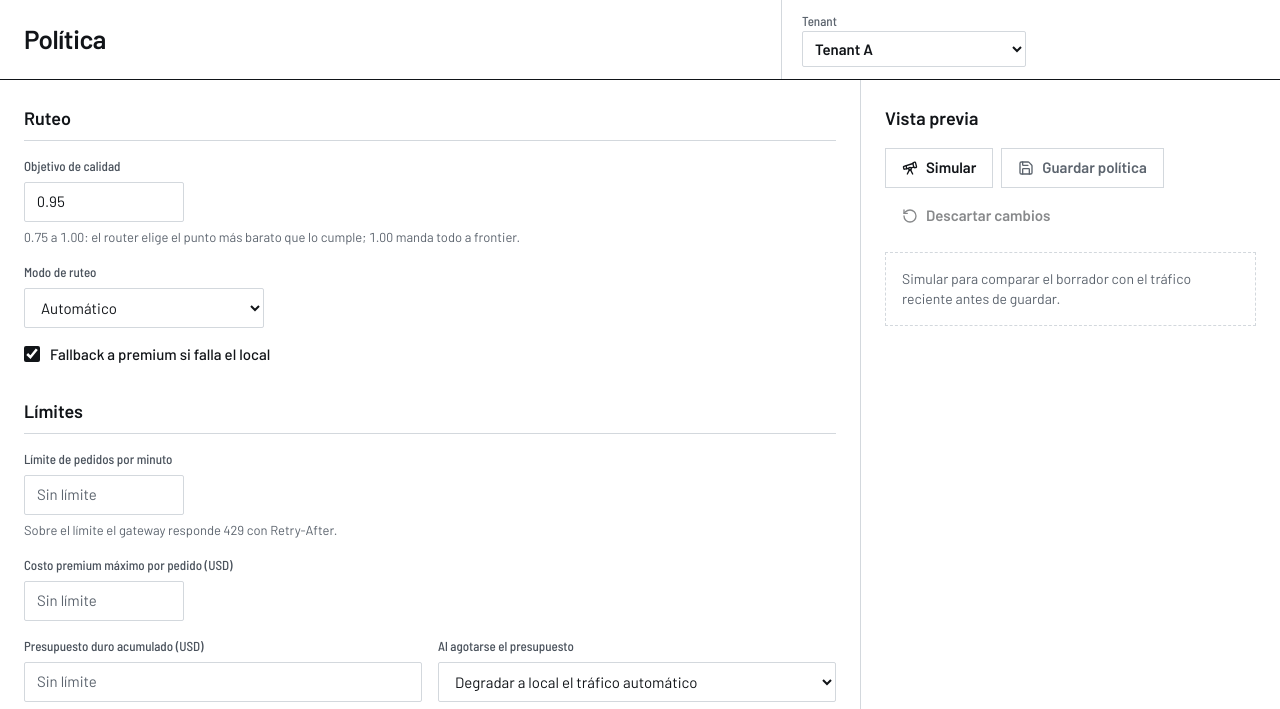
Test: policy-page › does not show a failed simulation of one tenant under the next
Check: the heading "Vista previa" is shown, box [885,104,978,132]
Click the button "Simular".
click(939, 168)  # box [885,148,993,188]
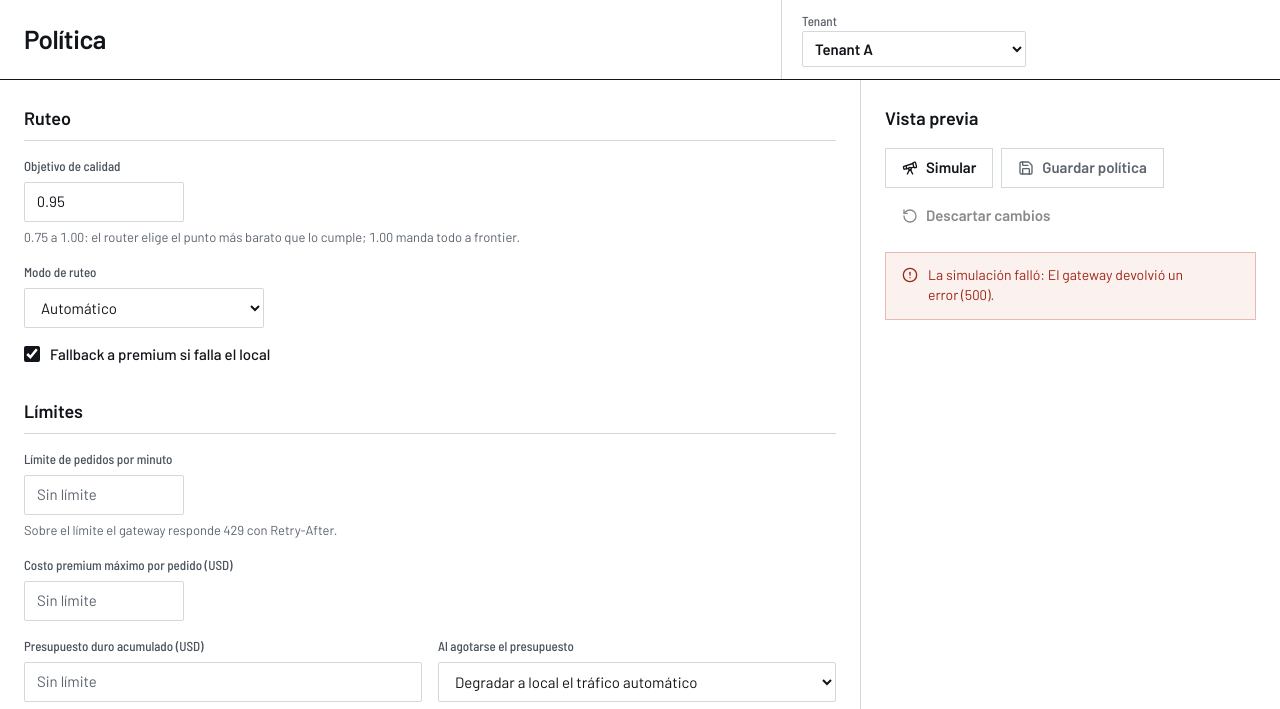
Check: the text "La simulación falló: El gateway devolvió un error (500)." is shown, box [928,266,1183,303]
Select "Tenant B" in the dropdown named "Tenant" at (914, 49), box [802,31,1026,67]
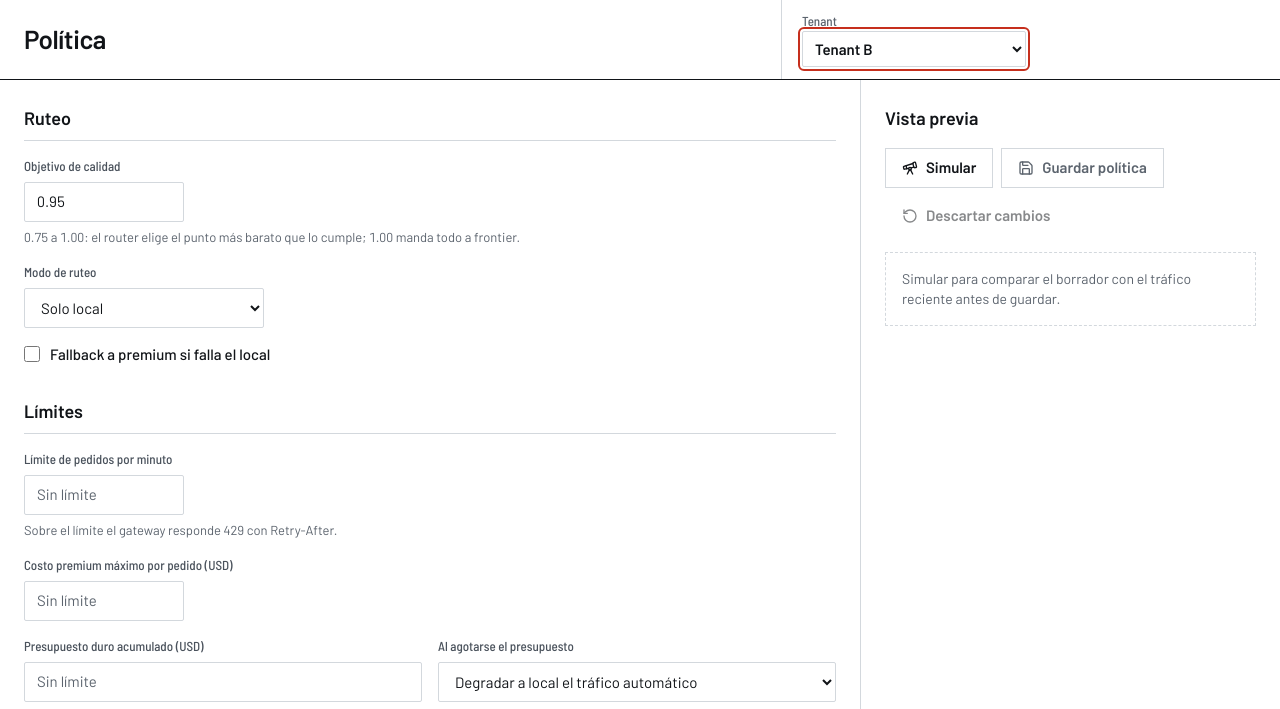
Check: the text "La simulación falló" is gone
Check: the text "Simular para comparar el borrador con el tráfico reciente antes de guardar." is shown, box [885,252,1256,326]
